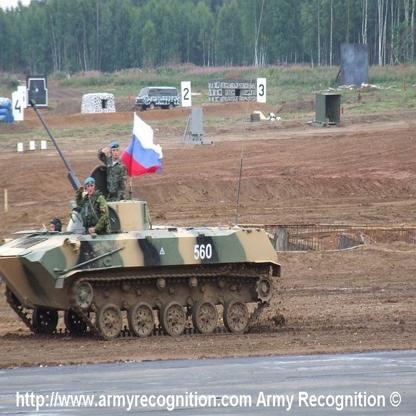Tank: (1, 164, 303, 349)
